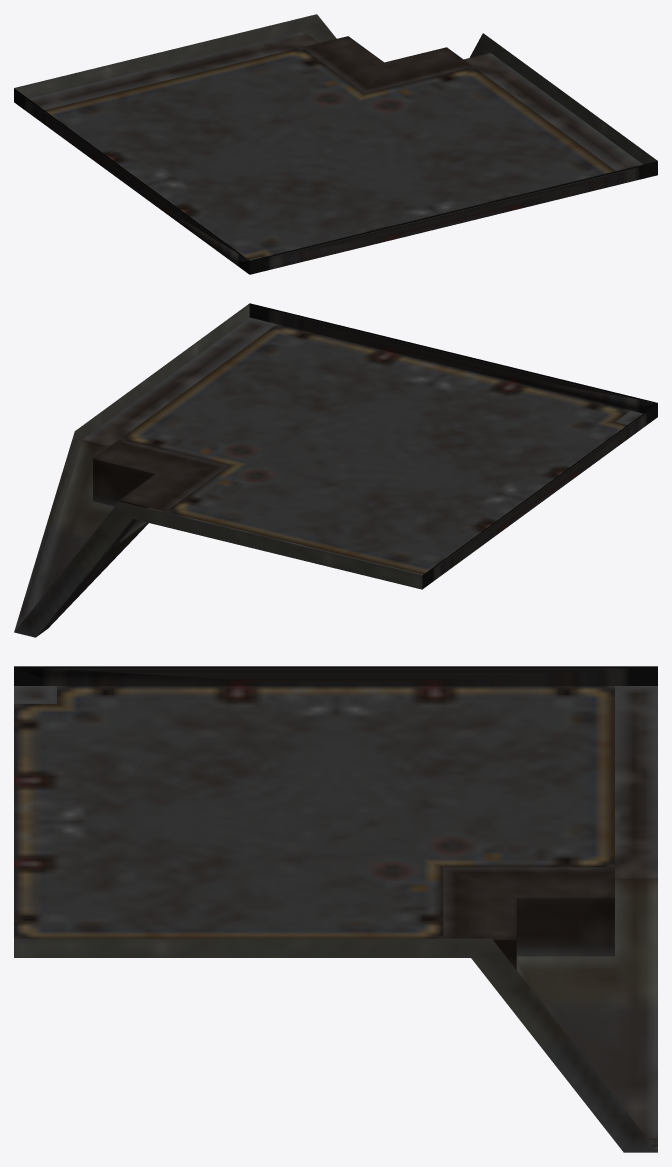
Rendered from Ceiling_internal_corner_out.FBX.
3 views of the same model, one above another, from view 1: azimuth 30°, elevation 25°; view 2: azimuth 150°, elevation 25°; view 3: azimuth 270°, elevation 25° (orthographic). The views are drawn at different scales.
Visible parts, largest first — view 1: Ceiling_internal_corner_out; view 2: Ceiling_internal_corner_out; view 3: Ceiling_internal_corner_out.
Boxes of the visible parts, <box> form: Ceiling_internal_corner_out: <box>14,14,657,274</box>; Ceiling_internal_corner_out: <box>14,303,657,637</box>; Ceiling_internal_corner_out: <box>14,666,657,1152</box>.
Bounding box in the file's own units: 300 × 110 × 300.
